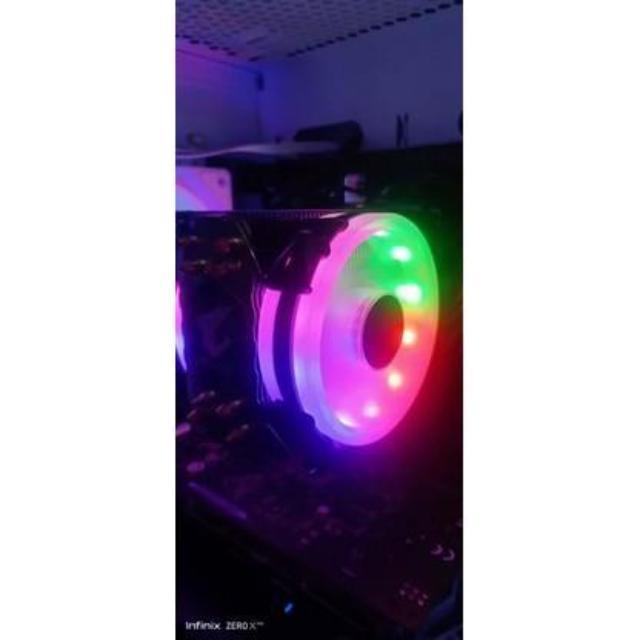CPU_Fan: (178, 205, 454, 467)
